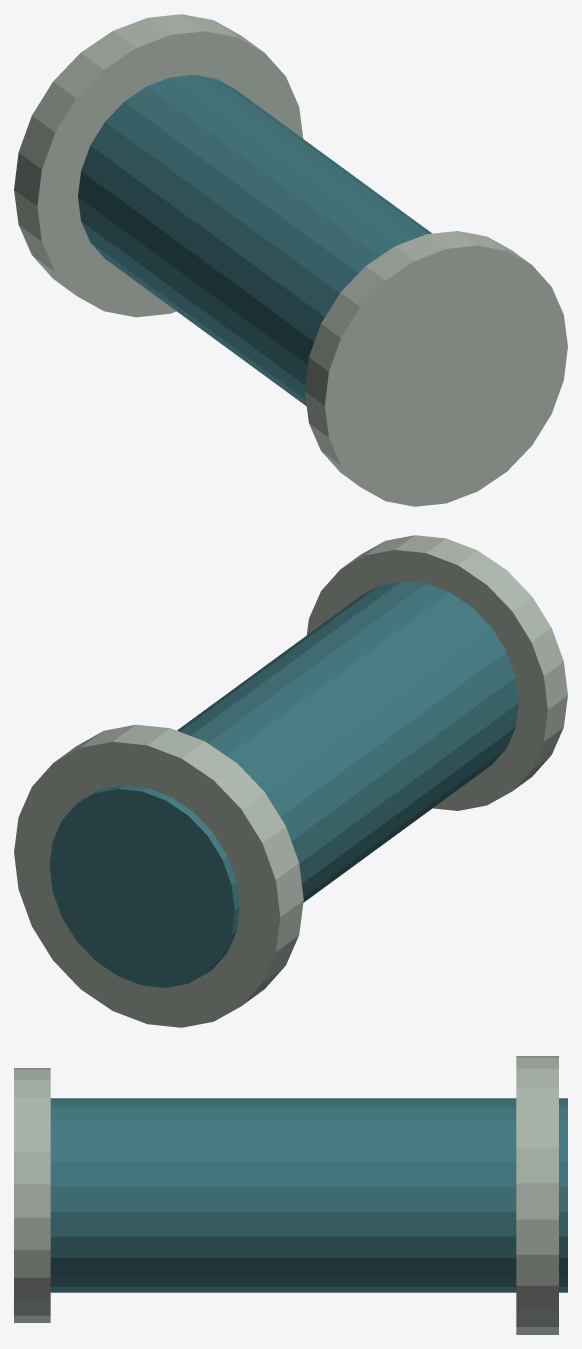
The model's file is 19_Abyssal_Temple_Pillar.glb.
The picture shows the model from 3 angles, top to bottom: view 1: azimuth 30°, elevation 25°; view 2: azimuth 150°, elevation 25°; view 3: azimuth 270°, elevation 25°; orthographic projection. The views are drawn at different scales.
Parts seen in each view (by area): view 1: 19_Abyssal_Temple_Pillar_00, 19_Abyssal_Temple_Pillar_02, 19_Abyssal_Temple_Pillar_01; view 2: 19_Abyssal_Temple_Pillar_00, 19_Abyssal_Temple_Pillar_01, 19_Abyssal_Temple_Pillar_02; view 3: 19_Abyssal_Temple_Pillar_00, 19_Abyssal_Temple_Pillar_01, 19_Abyssal_Temple_Pillar_02.
Boxes of the visible parts, x1,y1,x2,y2 form: 19_Abyssal_Temple_Pillar_00: (78,75,431,405); 19_Abyssal_Temple_Pillar_02: (304,231,567,506); 19_Abyssal_Temple_Pillar_01: (14,14,303,317); 19_Abyssal_Temple_Pillar_00: (49,581,518,987); 19_Abyssal_Temple_Pillar_01: (14,724,303,1027); 19_Abyssal_Temple_Pillar_02: (307,535,567,810); 19_Abyssal_Temple_Pillar_00: (50,1098,567,1292); 19_Abyssal_Temple_Pillar_01: (516,1056,558,1334); 19_Abyssal_Temple_Pillar_02: (14,1068,50,1322).
Size of the model in its own units: 2.3 by 2.3 by 4.55.
